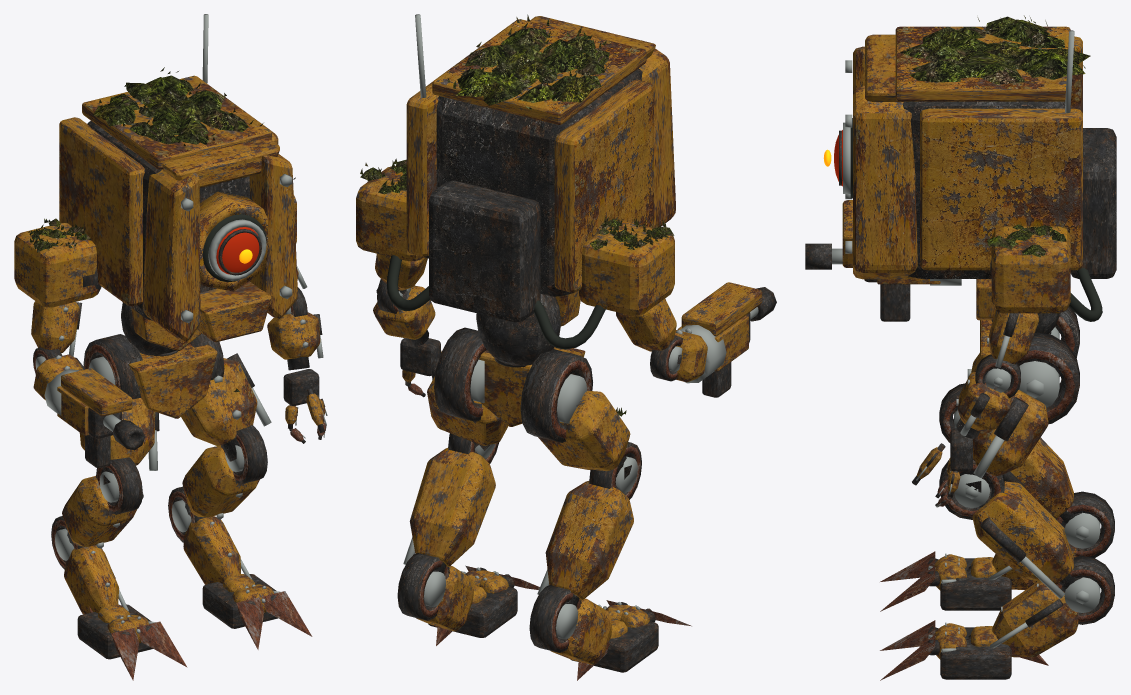
Rendered from rust-scout.glb.
3 views of the same model, side by side, from view 1: azimuth 30°, elevation 25°; view 2: azimuth 150°, elevation 25°; view 3: azimuth 270°, elevation 25° (orthographic). The views are drawn at different scales.
Visible parts, largest first — view 1: Head_Mesh, Shoulder_-1_Mesh, Forearm_-1_Mesh, leg_1_segment_0_Mesh, leg_1_segment_1_Mesh, leg_-1_segment_1_Mesh, Forearm_1_Mesh, Pelvis_Mesh, leg_-1_segment_0_Mesh, leg_-1_foot_Mesh, leg_1_foot_Mesh, leg_1_segment_2_Mesh (+2 smaller); view 2: Head_Mesh, Backpack_Mesh, Shoulder_-1_Mesh, leg_-1_segment_0_Mesh, leg_-1_segment_1_Mesh, leg_1_segment_1_Mesh, Forearm_-1_Mesh, leg_1_segment_0_Mesh, Shoulder_1_Mesh, leg_-1_segment_2_Mesh, leg_1_segment_2_Mesh, Torso_Mesh (+4 smaller); view 3: Head_Mesh, Shoulder_1_Mesh, leg_1_segment_1_Mesh, leg_1_segment_0_Mesh, leg_1_segment_2_Mesh, Backpack_Mesh, Forearm_1_Mesh, leg_1_foot_Mesh, leg_-1_foot_Mesh, leg_-1_segment_1_Mesh, leg_-1_segment_2_Mesh, Forearm_-1_Mesh (+2 smaller).
Part boxes in pixels (left/top/right/bottom): Head_Mesh: left=59, top=67, right=297, bottom=341; Shoulder_-1_Mesh: left=14, top=218, right=101, bottom=356; Forearm_-1_Mesh: left=33, top=347, right=145, bottom=467; leg_1_segment_0_Mesh: left=181, top=333, right=271, bottom=461; leg_1_segment_1_Mesh: left=182, top=425, right=267, bottom=519; leg_-1_segment_1_Mesh: left=62, top=457, right=143, bottom=548; Forearm_1_Mesh: left=267, top=287, right=327, bottom=443; Pelvis_Mesh: left=129, top=344, right=217, bottom=418; leg_-1_segment_0_Mesh: left=79, top=334, right=159, bottom=484; leg_-1_foot_Mesh: left=77, top=604, right=187, bottom=680; leg_1_foot_Mesh: left=202, top=574, right=312, bottom=649; leg_1_segment_2_Mesh: left=168, top=486, right=252, bottom=584; Head_Mesh: left=406, top=14, right=675, bottom=296; Backpack_Mesh: left=386, top=14, right=605, bottom=349; Shoulder_-1_Mesh: left=579, top=216, right=676, bottom=351; leg_-1_segment_0_Mesh: left=520, top=349, right=631, bottom=479; leg_-1_segment_1_Mesh: left=537, top=442, right=641, bottom=606; leg_1_segment_1_Mesh: left=403, top=433, right=498, bottom=573; Forearm_-1_Mesh: left=650, top=282, right=776, bottom=397; leg_1_segment_0_Mesh: left=427, top=327, right=508, bottom=450; Shoulder_1_Mesh: left=356, top=158, right=428, bottom=294; leg_-1_segment_2_Mesh: left=529, top=585, right=611, bottom=664; leg_1_segment_2_Mesh: left=397, top=553, right=474, bottom=631; Torso_Mesh: left=476, top=291, right=580, bottom=367; Head_Mesh: left=823, top=15, right=1090, bottom=279; Shoulder_1_Mesh: left=987, top=222, right=1070, bottom=373; leg_1_segment_1_Mesh: left=939, top=460, right=1082, bottom=598; leg_1_segment_0_Mesh: left=961, top=332, right=1079, bottom=492; leg_1_segment_2_Mesh: left=989, top=556, right=1114, bottom=657; Backpack_Mesh: left=1065, top=30, right=1116, bottom=321; Forearm_1_Mesh: left=912, top=354, right=1020, bottom=507; leg_1_foot_Mesh: left=880, top=620, right=1048, bottom=680; leg_-1_foot_Mesh: left=880, top=551, right=1011, bottom=611; leg_-1_segment_1_Mesh: left=939, top=383, right=1081, bottom=527; leg_-1_segment_2_Mesh: left=988, top=491, right=1114, bottom=590; Forearm_-1_Mesh: left=805, top=243, right=961, bottom=321.
Size of the model in its own units: 1.41 by 2.71 by 1.18.
8 materials, 4 textured.
